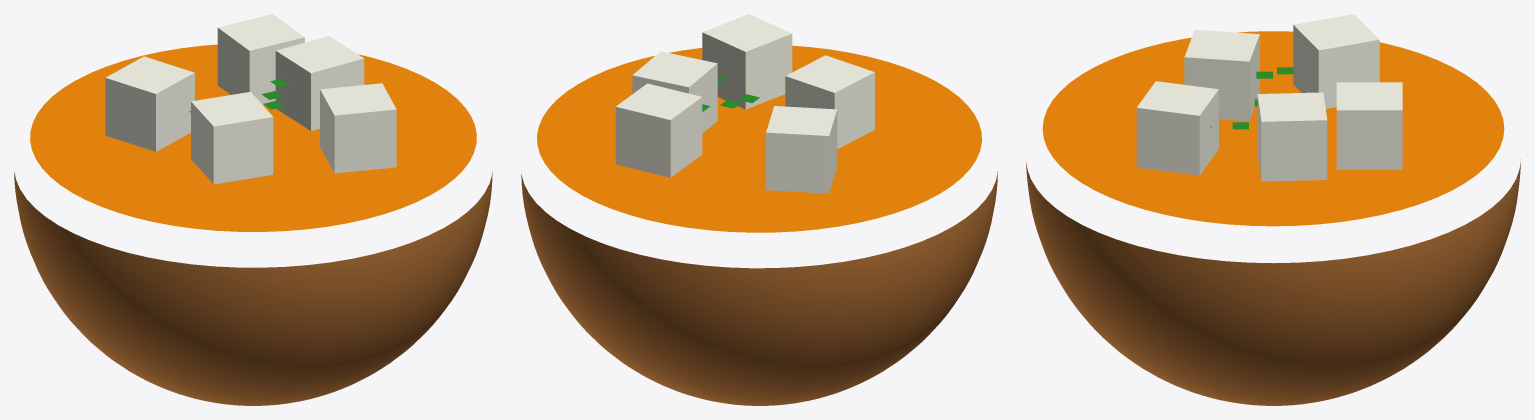
The model's file is paneer_butter_masala.glb.
3 renders of one model, left to right at view 1: azimuth 30°, elevation 25°; view 2: azimuth 150°, elevation 25°; view 3: azimuth 270°, elevation 25°, orthographic. The views are drawn at different scales.
Size of the model in its own units: 6 by 4.2 by 6.
